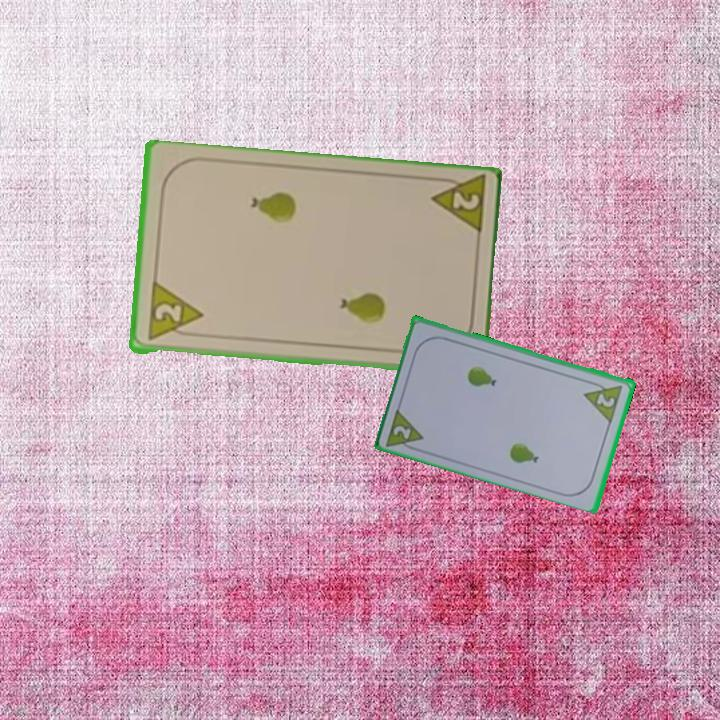2p: (427, 174, 489, 240), (144, 281, 205, 344), (383, 404, 428, 455), (593, 390, 618, 410)
